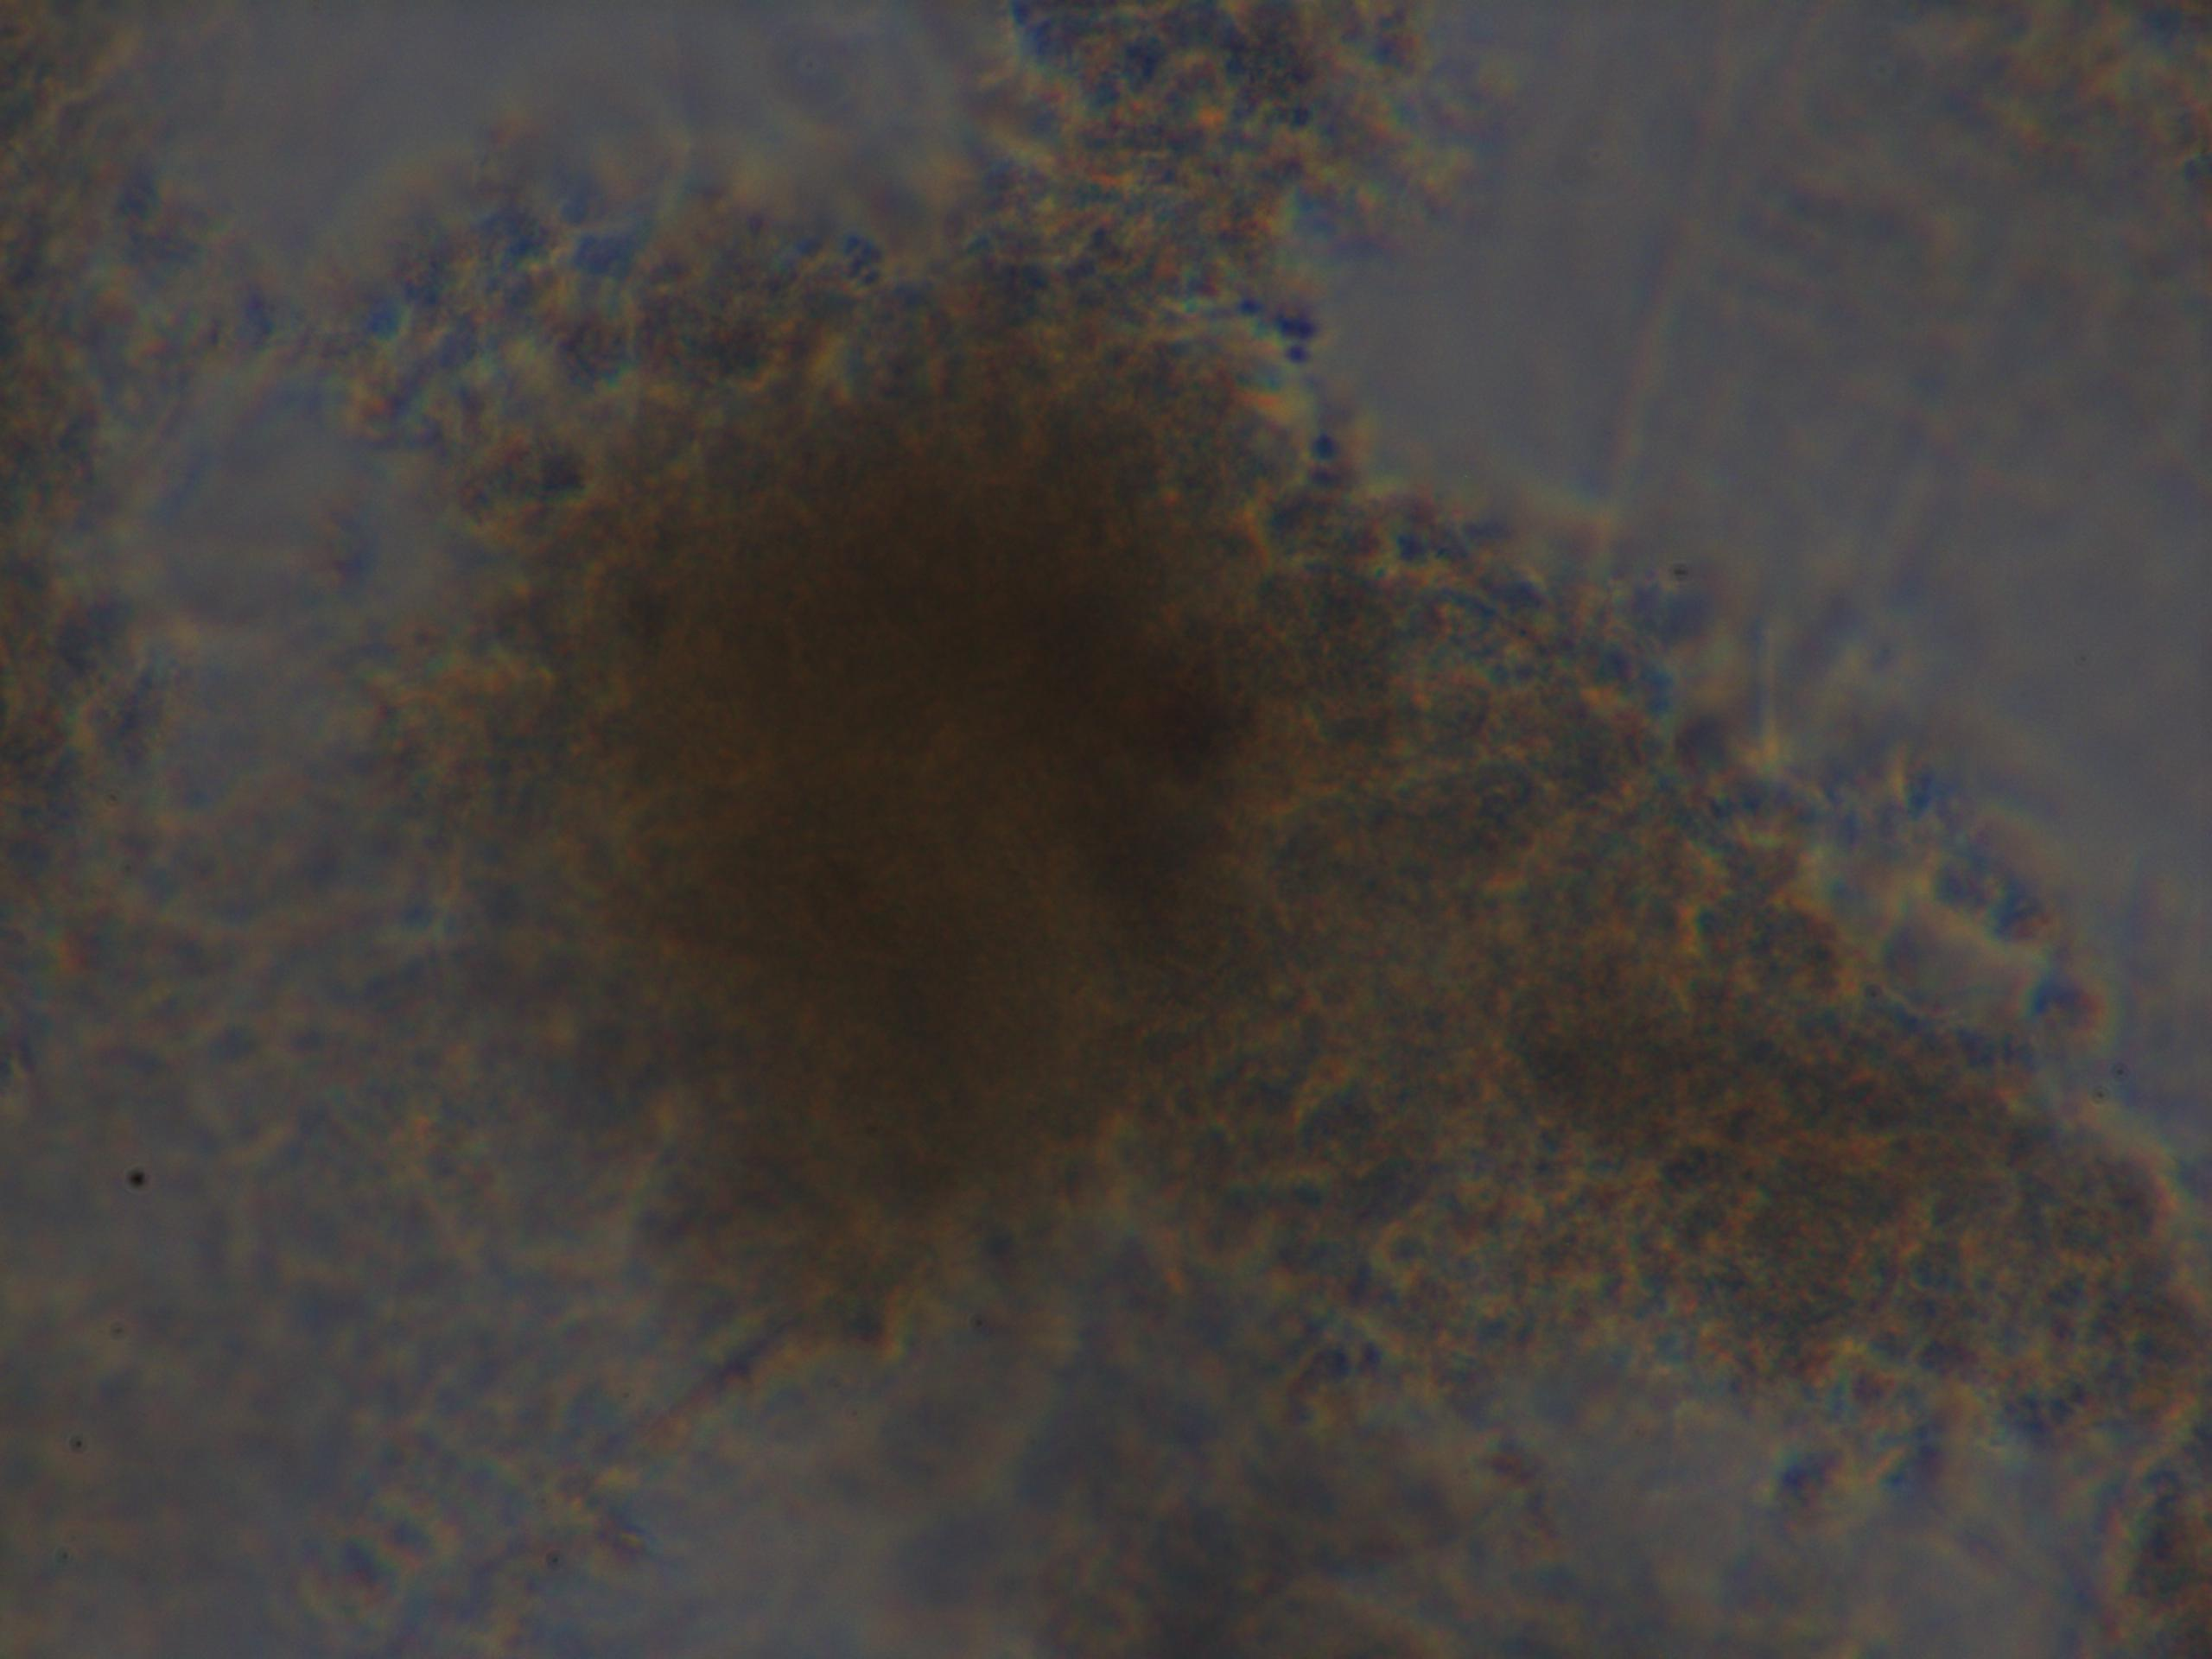spherical_floc: (371, 193, 2191, 1443)
